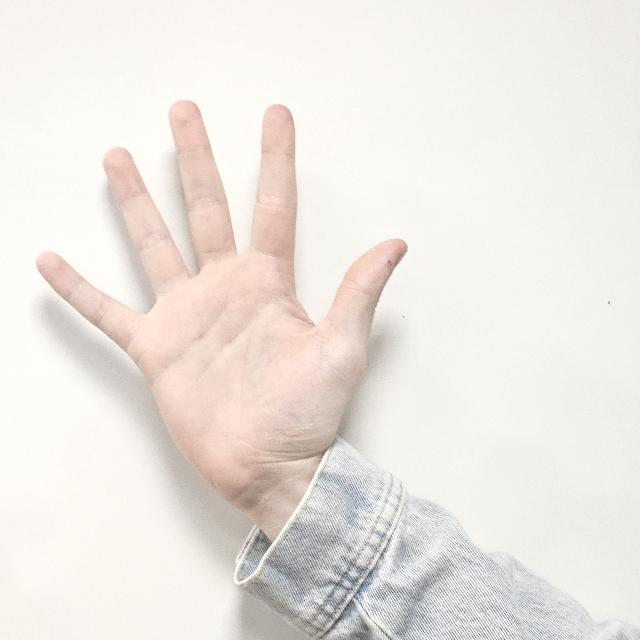X: (39, 98, 411, 500)
